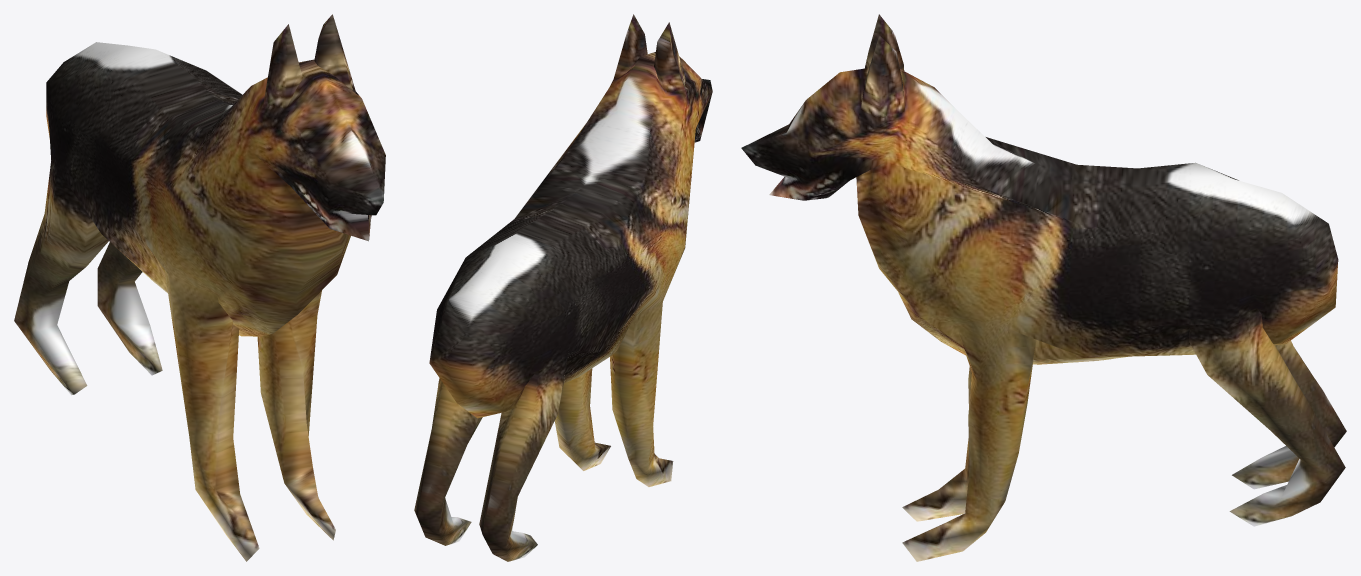
File: dog_shepherd_lo.glb
3 views of the same model, side by side, from view 1: azimuth 30°, elevation 25°; view 2: azimuth 150°, elevation 25°; view 3: azimuth 270°, elevation 25° (orthographic). The views are drawn at different scales.
Visible parts, largest first — view 1: dog_shepherd_lo; view 2: dog_shepherd_lo; view 3: dog_shepherd_lo.
Boxes of the visible parts, x1,y1,x2,y2 form: dog_shepherd_lo: (14, 14, 385, 561); dog_shepherd_lo: (414, 14, 712, 561); dog_shepherd_lo: (741, 14, 1346, 561).
Bounding box in the file's own units: 0.2887 × 0.8543 × 0.9053.
1 material, 1 textured.
